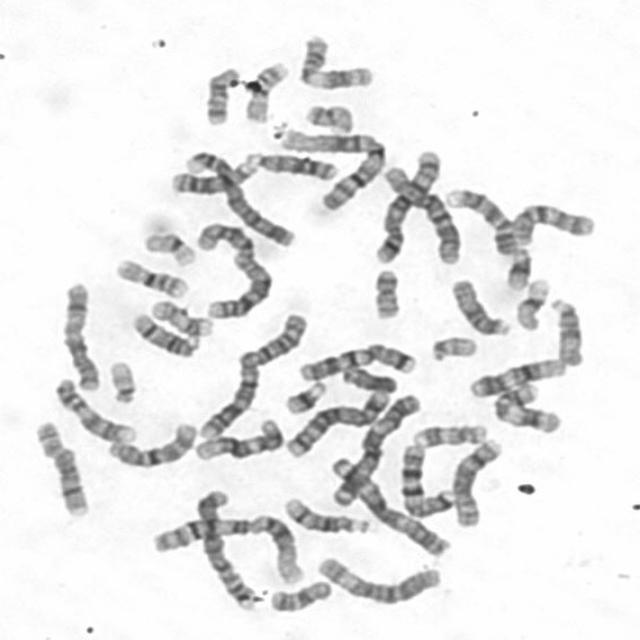A1: (148, 508, 308, 586), (273, 124, 389, 212)
A2: (192, 308, 310, 442), (187, 216, 274, 320)
A3: (326, 451, 453, 558), (325, 388, 424, 508)
B4: (178, 144, 297, 248), (188, 484, 259, 611)
B5: (368, 144, 443, 266), (279, 384, 392, 460)
C10: (100, 416, 200, 469), (504, 196, 597, 246)
C11: (291, 29, 377, 92), (487, 378, 565, 436)
C12: (462, 352, 568, 399), (188, 413, 286, 462)
C6: (376, 158, 462, 266), (310, 550, 444, 606)
C7: (292, 338, 420, 382), (393, 438, 458, 520)
C8: (27, 414, 91, 518), (445, 432, 505, 529)
C9: (49, 372, 138, 444), (440, 182, 518, 255)
D13: (165, 154, 259, 196), (238, 146, 339, 182)
D14: (278, 492, 372, 536), (126, 306, 199, 359)
D15: (445, 272, 512, 338), (545, 291, 587, 368)
E16: (108, 252, 191, 300), (238, 55, 290, 124)
E17: (144, 294, 215, 338), (406, 418, 489, 450)
E18: (198, 61, 241, 127), (263, 575, 334, 614)
F19: (137, 226, 198, 268), (510, 272, 552, 332)
F20: (366, 262, 404, 322), (298, 97, 355, 134)
G21: (278, 376, 328, 416), (500, 242, 534, 292)
G22: (102, 354, 138, 406), (424, 330, 480, 362)
X: (55, 276, 102, 392)
Y: (336, 360, 399, 394)
